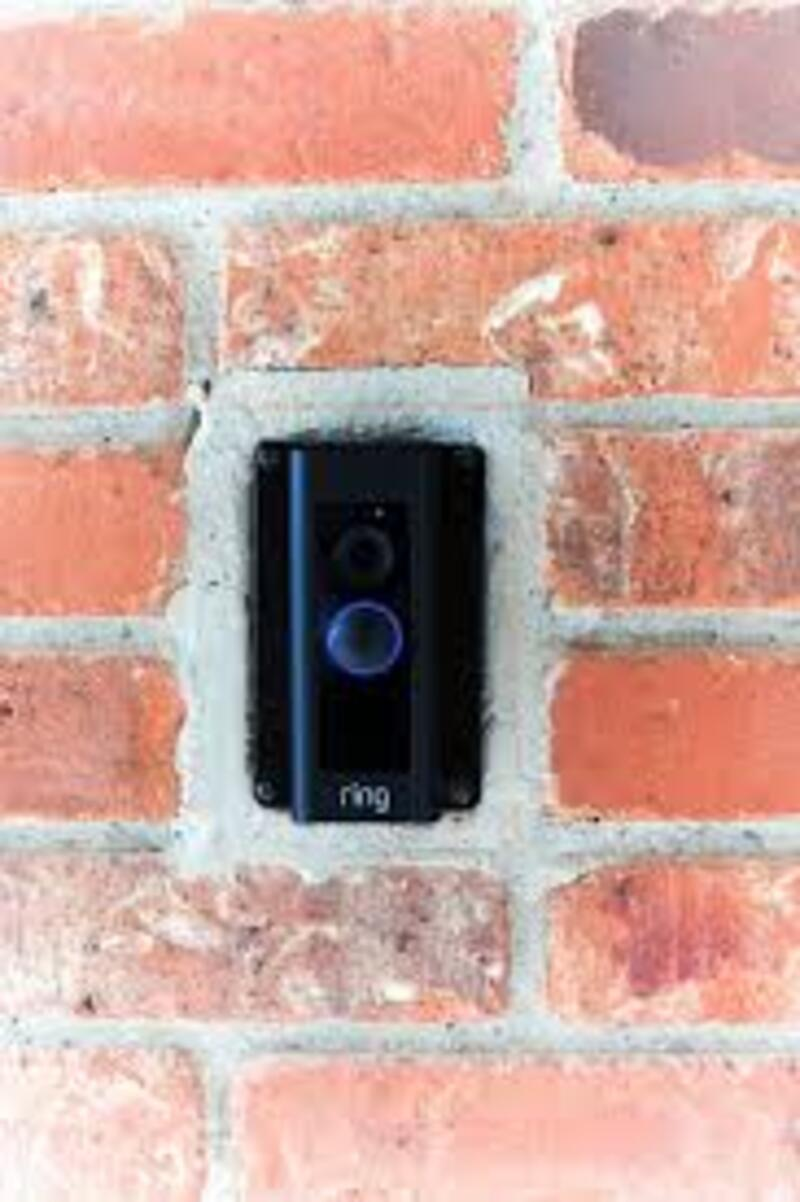doorbell: (275, 430, 455, 843)
